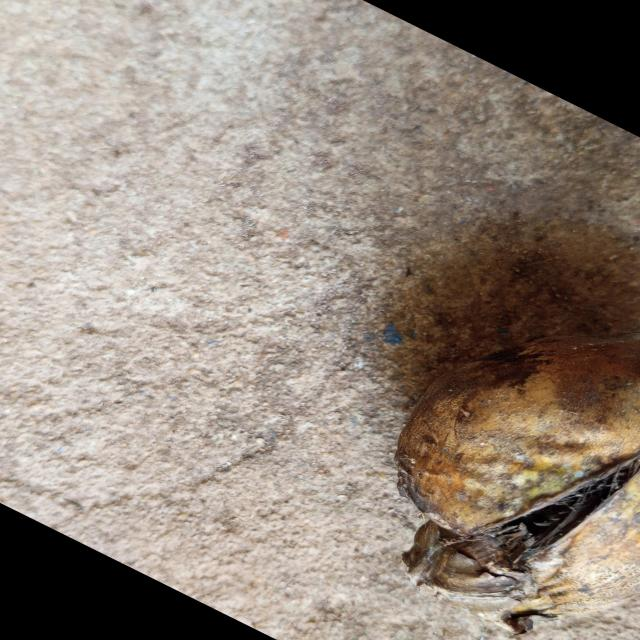damaged: (395, 335, 640, 633)
